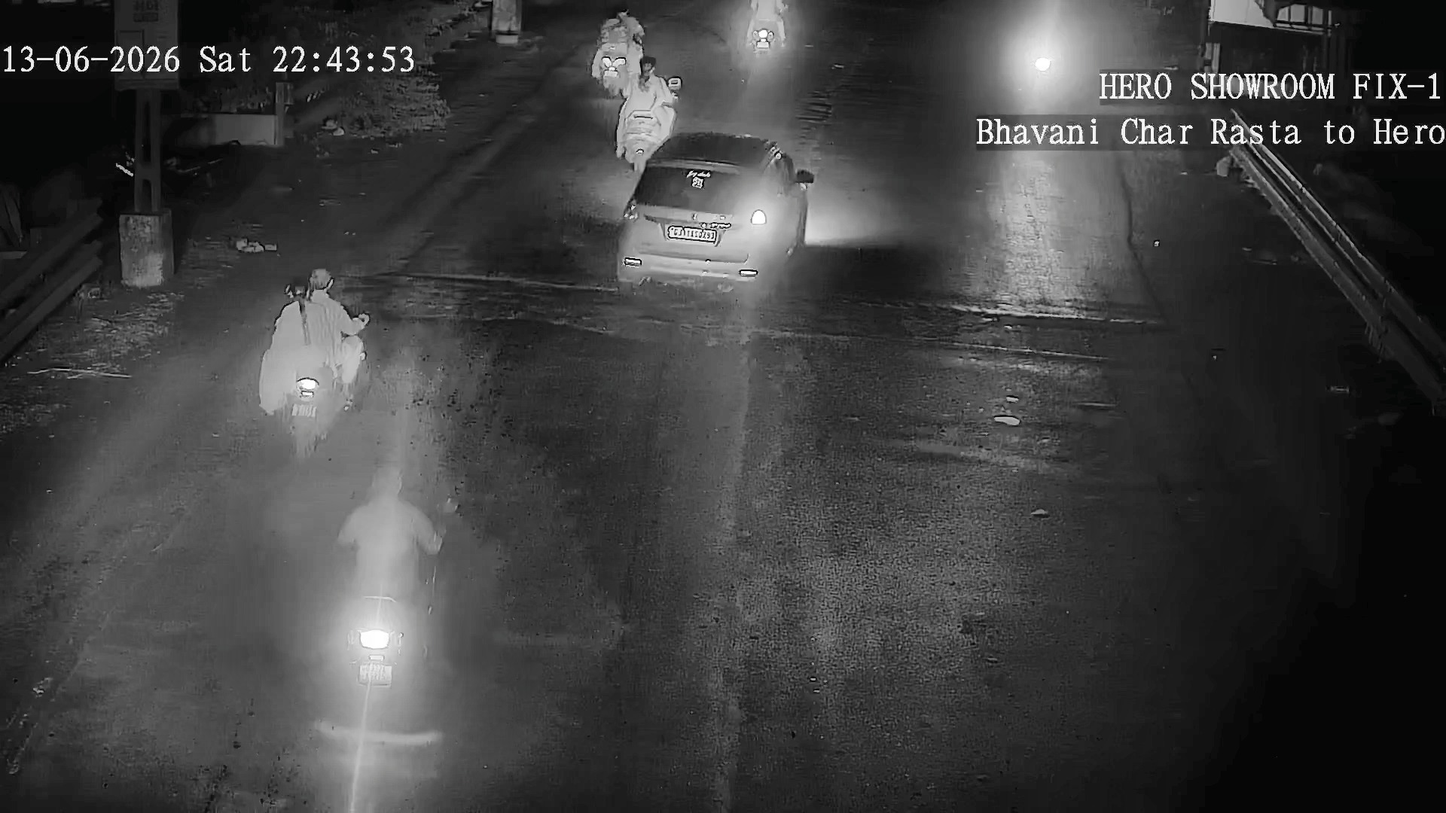car: (609, 122, 827, 294)
two_wheeler: (317, 477, 454, 723)
